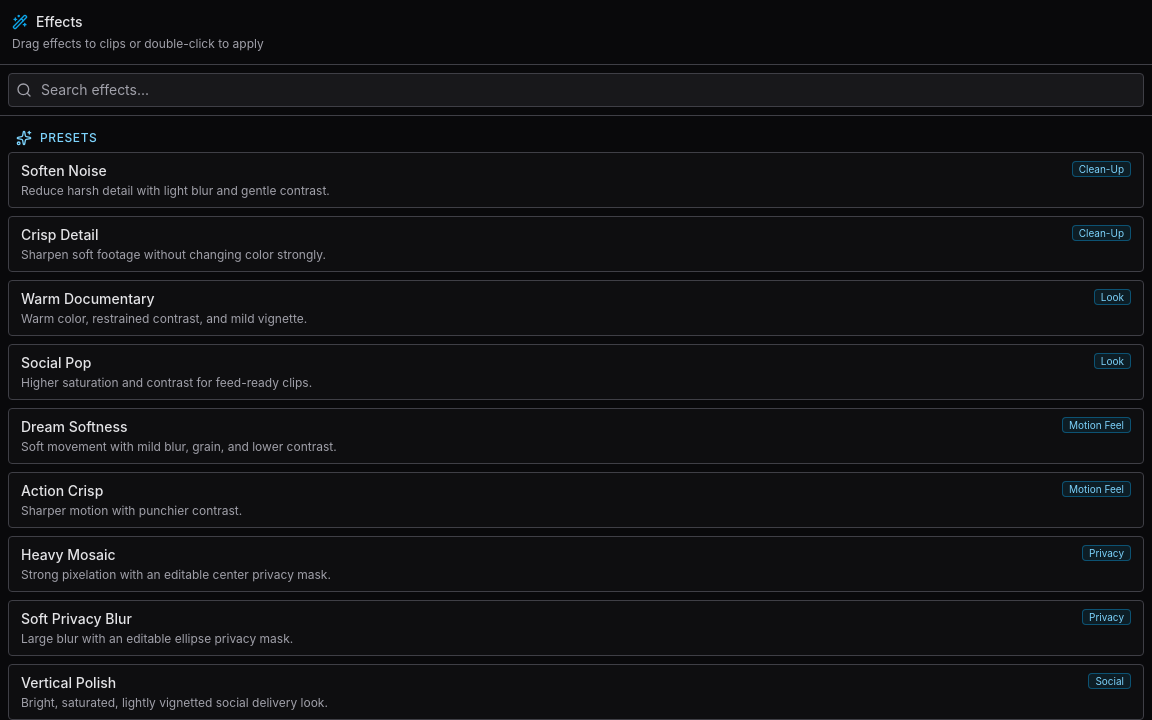
Test: EffectsBrowser › search functionality › should filter saved effect presets by saved name and effect type
The width and height of the screenshot is (1152, 720).
Type "animated radius" into the field with placeholder "Search effects...".
click(576, 90); type("animated radius")  # box [8,73,1144,107]
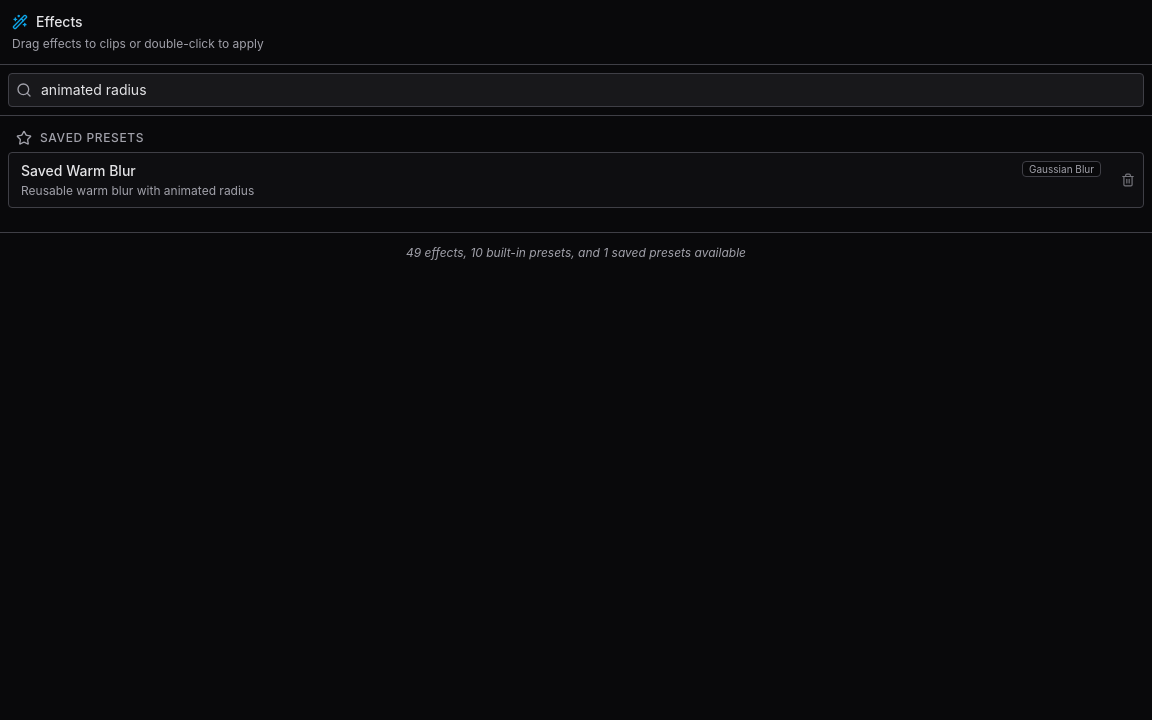
Now the button with test id "saved-effect-preset-preset-saved-warm" is shown, box [9,153,1113,207]
Now the button "Warm Documentary" is gone
